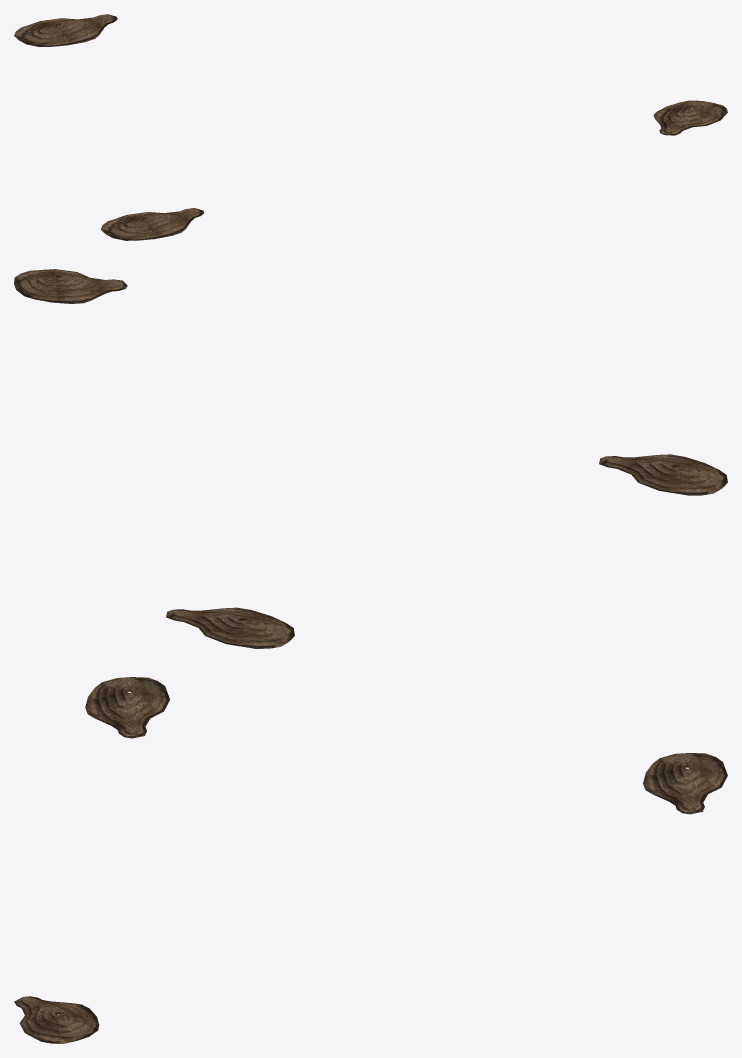
File: material2.029_lev3.glb
3 renders of one model, top to bottom at view 1: azimuth 30°, elevation 25°; view 2: azimuth 150°, elevation 25°; view 3: azimuth 270°, elevation 25°, orthographic. The views are drawn at different scales.
Visible parts, largest first — view 1: material2.029_lev3; view 2: material2.029_lev3; view 3: material2.029_lev3.
Part boxes in pixels (x1=…): material2.029_lev3: x1=14, y1=14, x2=727, y2=240; material2.029_lev3: x1=14, y1=269, x2=727, y2=648; material2.029_lev3: x1=14, y1=677, x2=727, y2=1043.
Bounding box in the file's own units: 2.41 × 0.0462 × 1.95.
1 material, 1 textured.
